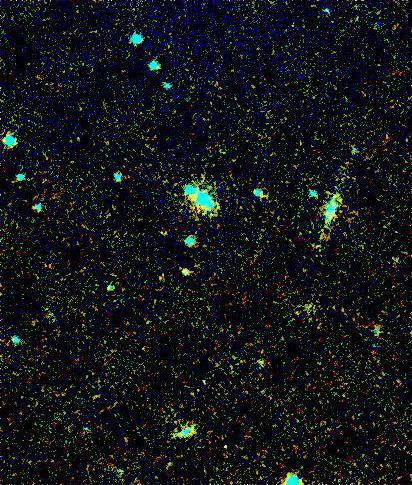star: (173, 182, 203, 212)
